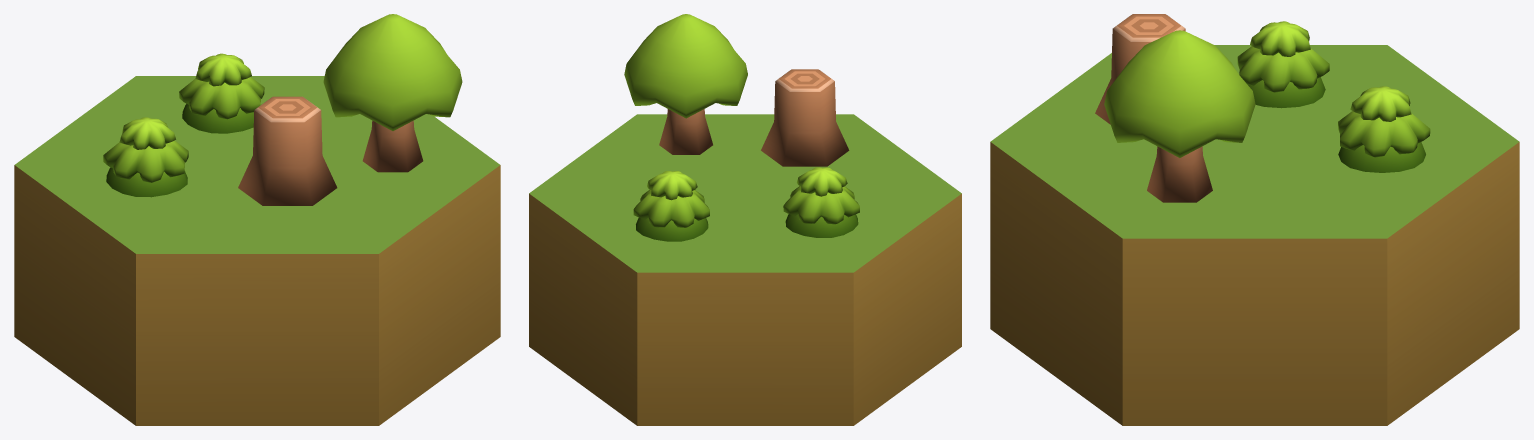
Rendered from gross1.glb.
3 views of the same model, side by side, from view 1: azimuth 30°, elevation 25°; view 2: azimuth 150°, elevation 25°; view 3: azimuth 270°, elevation 25° (orthographic). The views are drawn at different scales.
Parts seen in each view (by area): view 1: Cube.004; view 2: Cube.004; view 3: Cube.004.
Part boxes in pixels (box(x1,y1,x2,y2)): Cube.004: box(14, 14, 500, 425); Cube.004: box(529, 14, 961, 425); Cube.004: box(990, 14, 1519, 425).
Size of the model in its own units: 2.2 by 1.85 by 2.54.
1 material, 1 textured.
